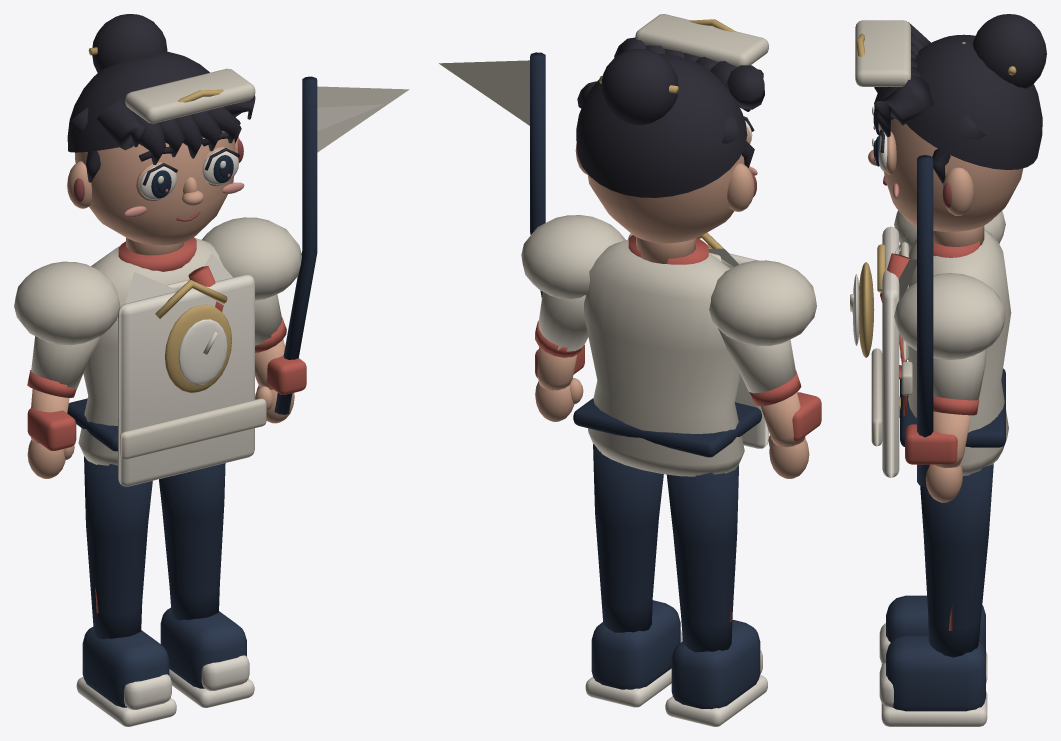
Rendered from xingyin-characters-v1__trainer_challenge.glb.
3 views of the same model, side by side, from view 1: azimuth 30°, elevation 25°; view 2: azimuth 150°, elevation 25°; view 3: azimuth 270°, elevation 25° (orthographic). The views are drawn at different scales.
Parts seen in each view (by area): view 1: figure; view 2: figure; view 3: figure.
Part boxes in pixels (box(x1,y1,x2,y2)): figure: box(14, 14, 409, 726); figure: box(439, 14, 821, 726); figure: box(850, 14, 1046, 726).
Size of the model in its own units: 1.51 by 2.5 by 0.6578.
